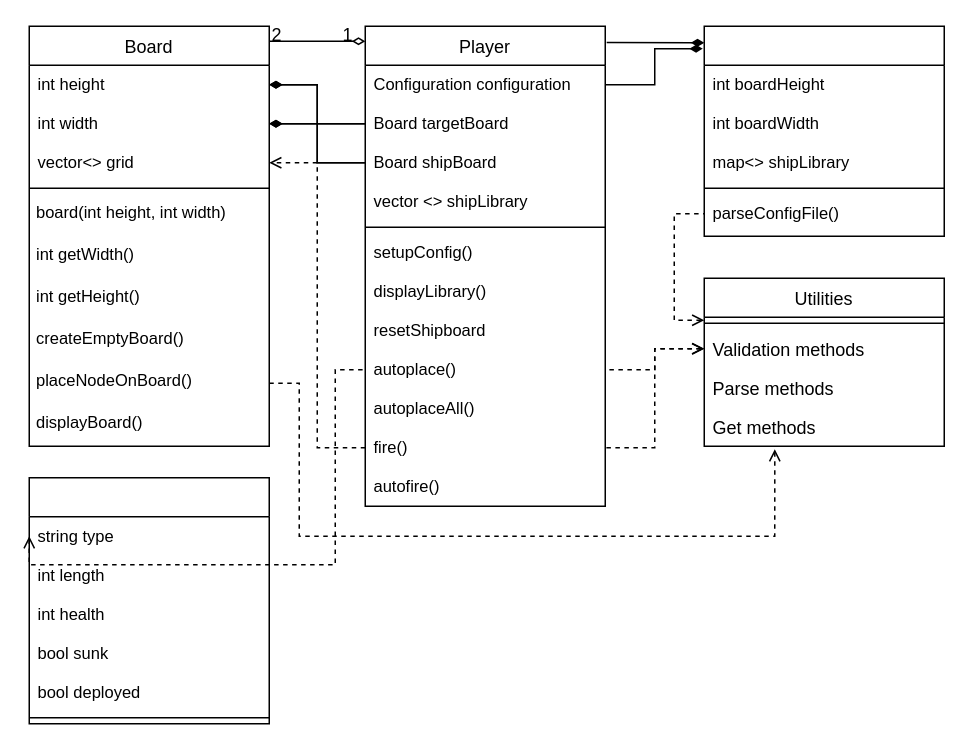
The diagram is 969 pixels wide and 749 high, and some of its shapes have lost their labels. Here are the shapes that lost their labels. From the top down, the box of each, then its label:
(703, 25, 944, 236): Configuration
(28, 476, 269, 724): Ship
